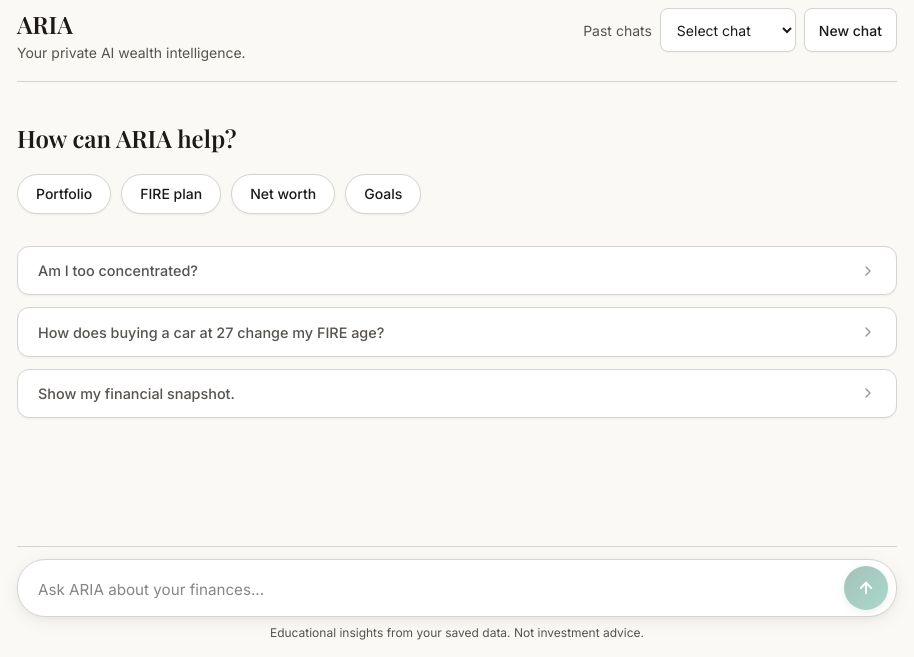
Test: Advisory interactive chat UI › New chat button appears beside history and clears conversation state locally
expect the button "New chat" is shown: met, box [804,8,897,52]
// Send a message first
What coordinates should you click on to do the following:
click the button "Portfolio"
I would click on:
 (64, 194)
Its box is [17,174,111,214].
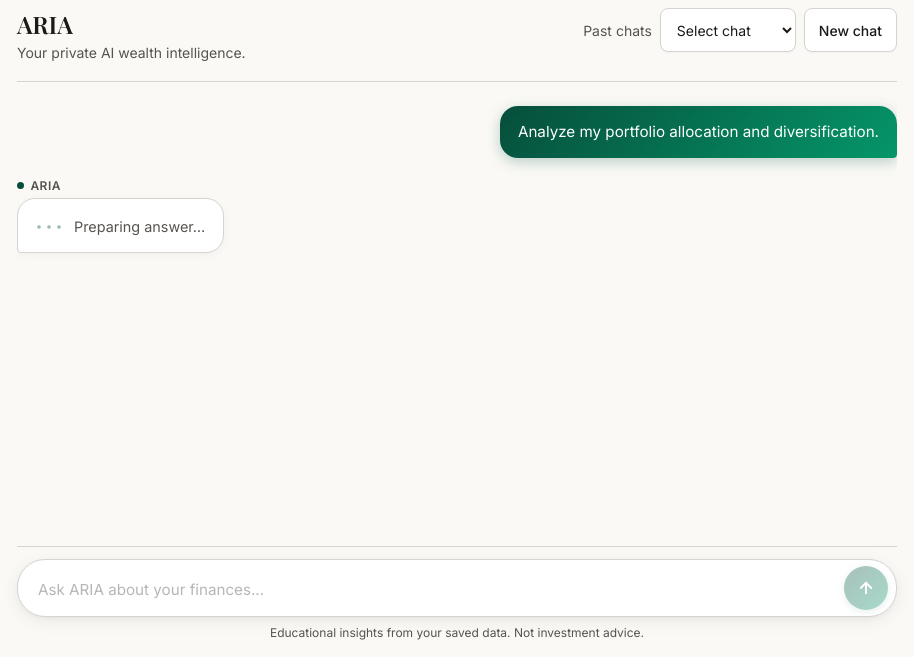
expect the text "Analyze my portfolio allocation and diversification." is shown: met, box [500,106,897,158]
// Click New chat to clear locally
What coordinates should you click on to do the following:
click the button "New chat"
I would click on:
 (850, 30)
Its box is [804,8,897,52].
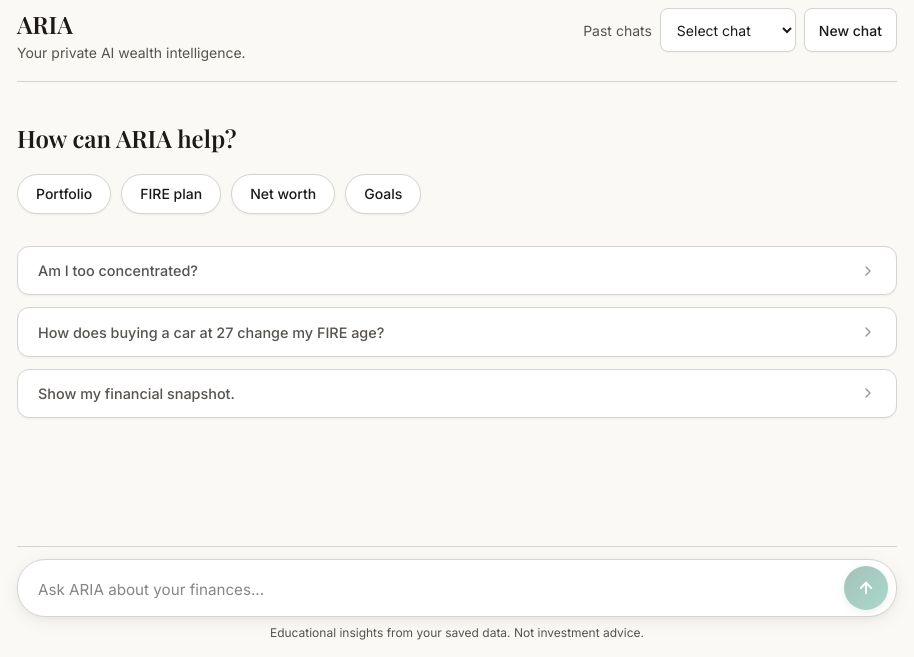
expect the text "Analyze my portfolio allocation and diversification." is gone: met
expect the heading "How can ARIA help?" is shown: met, box [17,122,236,154]
